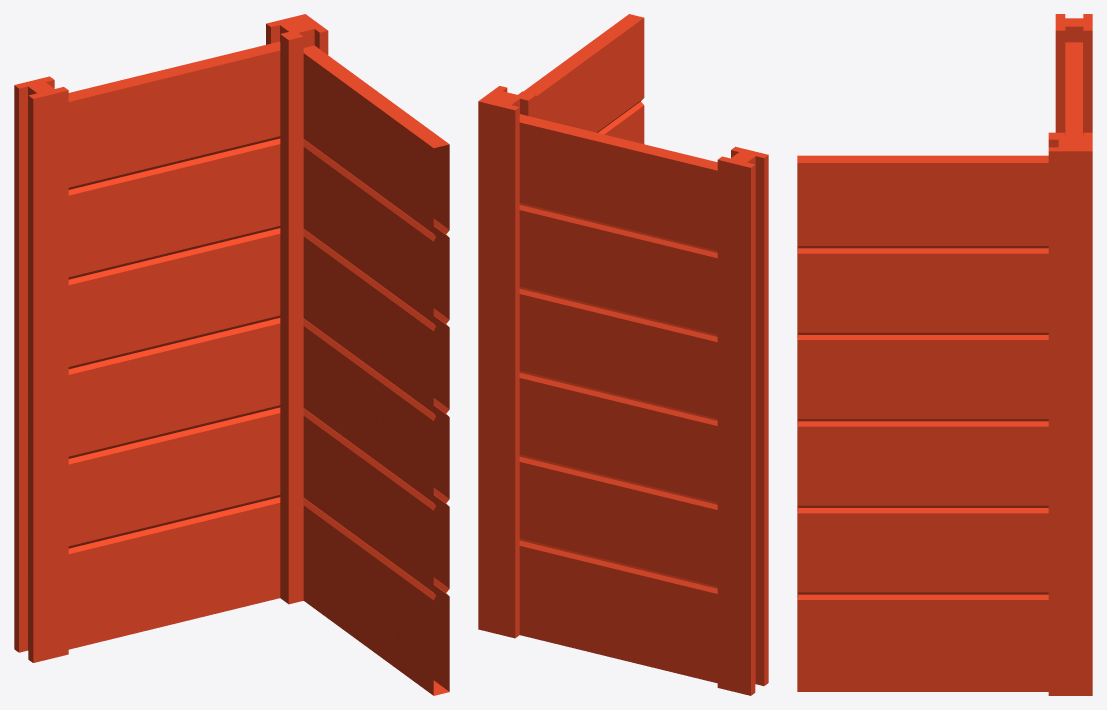
File: SM_Fence_Industrial_Corner_1m_City.fbx
The picture shows the model from 3 angles, left to right: view 1: azimuth 30°, elevation 25°; view 2: azimuth 150°, elevation 25°; view 3: azimuth 270°, elevation 25°; orthographic projection. The views are drawn at different scales.
Visible parts, largest first — view 1: SM_Fence_Industrial_Corner_1m_City; view 2: SM_Fence_Industrial_Corner_1m_City; view 3: SM_Fence_Industrial_Corner_1m_City.
Part boxes in pixels (x1,y1,x2,y2): SM_Fence_Industrial_Corner_1m_City: [14, 14, 449, 695]; SM_Fence_Industrial_Corner_1m_City: [478, 14, 768, 695]; SM_Fence_Industrial_Corner_1m_City: [797, 14, 1092, 695].
Bounding box in the file's own units: 1.13 × 2.1 × 1.03.
